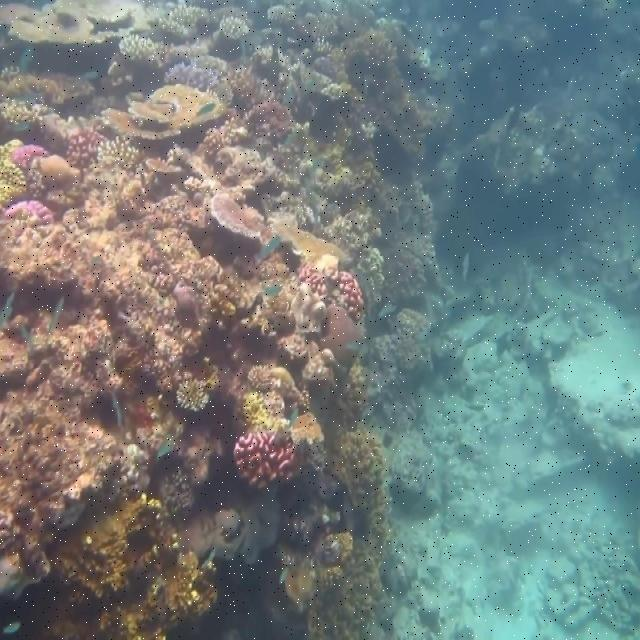fish: (48, 297, 64, 334), (0, 290, 14, 327), (260, 236, 279, 257), (157, 444, 173, 461), (378, 304, 396, 319), (20, 47, 30, 71), (197, 103, 215, 116), (3, 621, 22, 632), (263, 285, 281, 294), (463, 254, 469, 276)
reefs: (118, 35, 231, 103), (233, 427, 300, 489), (158, 6, 210, 40), (0, 140, 25, 210), (96, 136, 142, 171), (65, 131, 108, 165), (339, 270, 363, 320), (300, 262, 329, 300), (176, 379, 209, 411), (219, 15, 248, 40)
